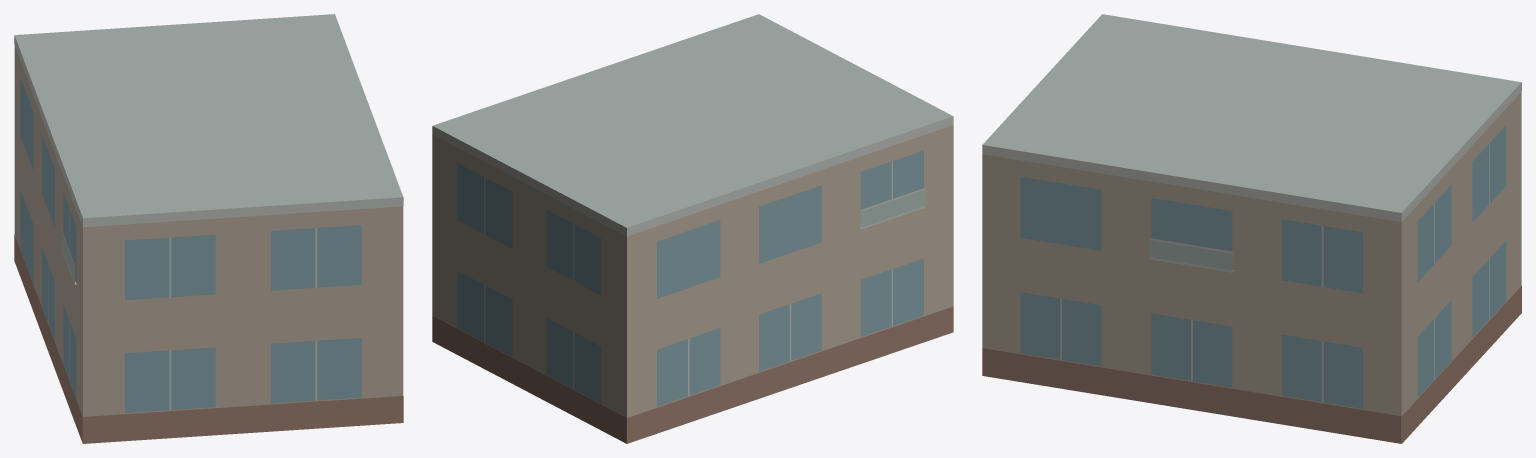
Rendered from survey-upis-33035577.glb.
3 views of the same model, side by side, from view 1: azimuth 30°, elevation 25°; view 2: azimuth 150°, elevation 25°; view 3: azimuth 270°, elevation 25° (orthographic). The views are drawn at different scales.
Parts seen in each view (by area): view 1: survey-upis-33035577.tmp; view 2: survey-upis-33035577.tmp; view 3: survey-upis-33035577.tmp.
Part boxes in pixels (x1,y1,x2,y2): survey-upis-33035577.tmp: [14, 14, 403, 443]; survey-upis-33035577.tmp: [432, 14, 953, 443]; survey-upis-33035577.tmp: [982, 14, 1521, 443].
Bounding box in the file's own units: 11.28 × 6.1 × 12.93.
